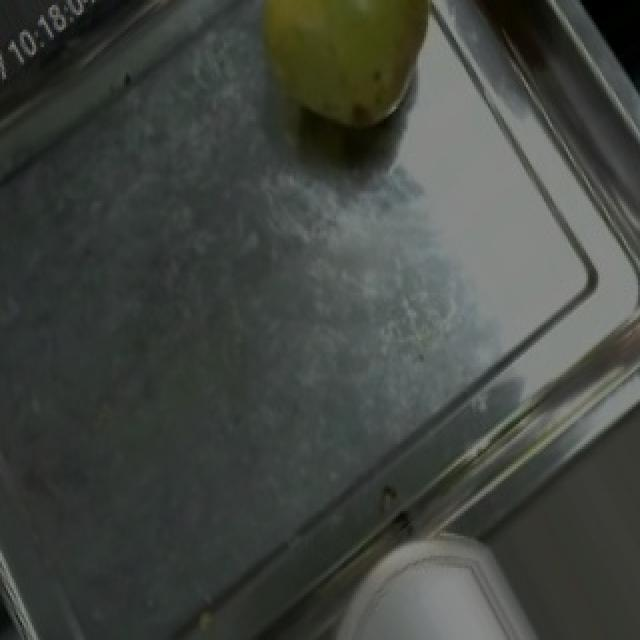fruit: (228, 0, 456, 164)
